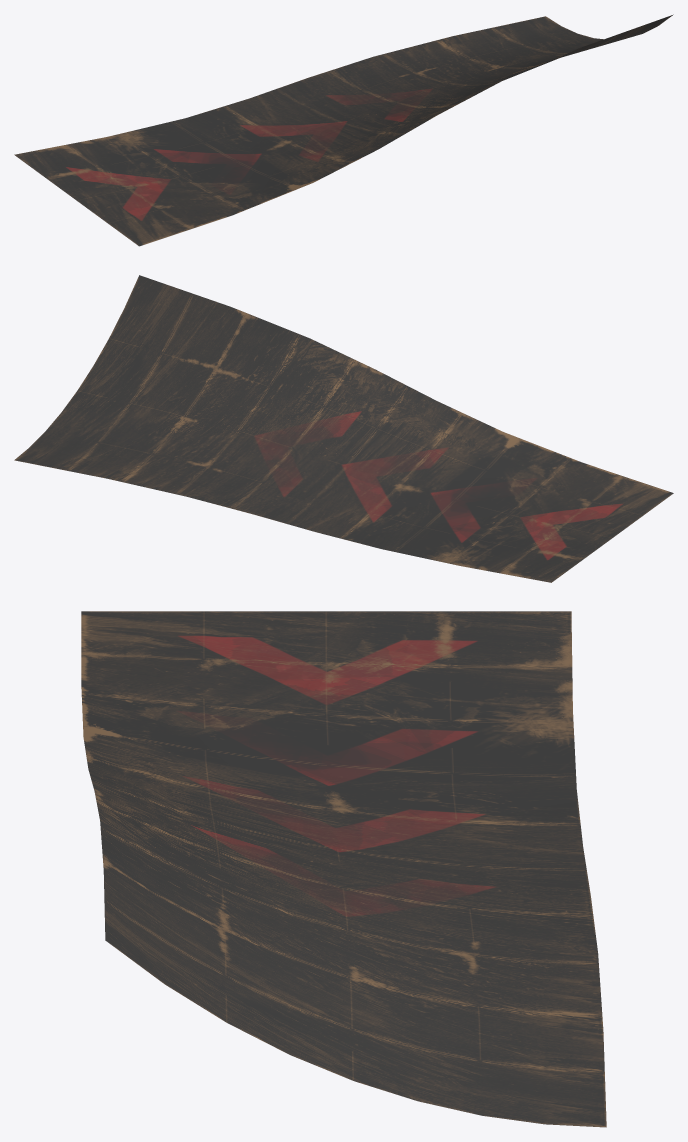
Rendered from Route_Transition_Gauche.fbx.
3 renders of one model, top to bottom at view 1: azimuth 30°, elevation 25°; view 2: azimuth 150°, elevation 25°; view 3: azimuth 270°, elevation 25°, orthographic. The views are drawn at different scales.
Parts seen in each view (by area): view 1: polySurface305; view 2: polySurface305; view 3: polySurface305.
Part boxes in pixels (bbox=[...]): polySurface305: bbox=[14, 14, 673, 246]; polySurface305: bbox=[14, 275, 673, 582]; polySurface305: bbox=[81, 611, 606, 1127].
Bounding box in the file's own units: 31.19 × 5.63 × 13.42.
